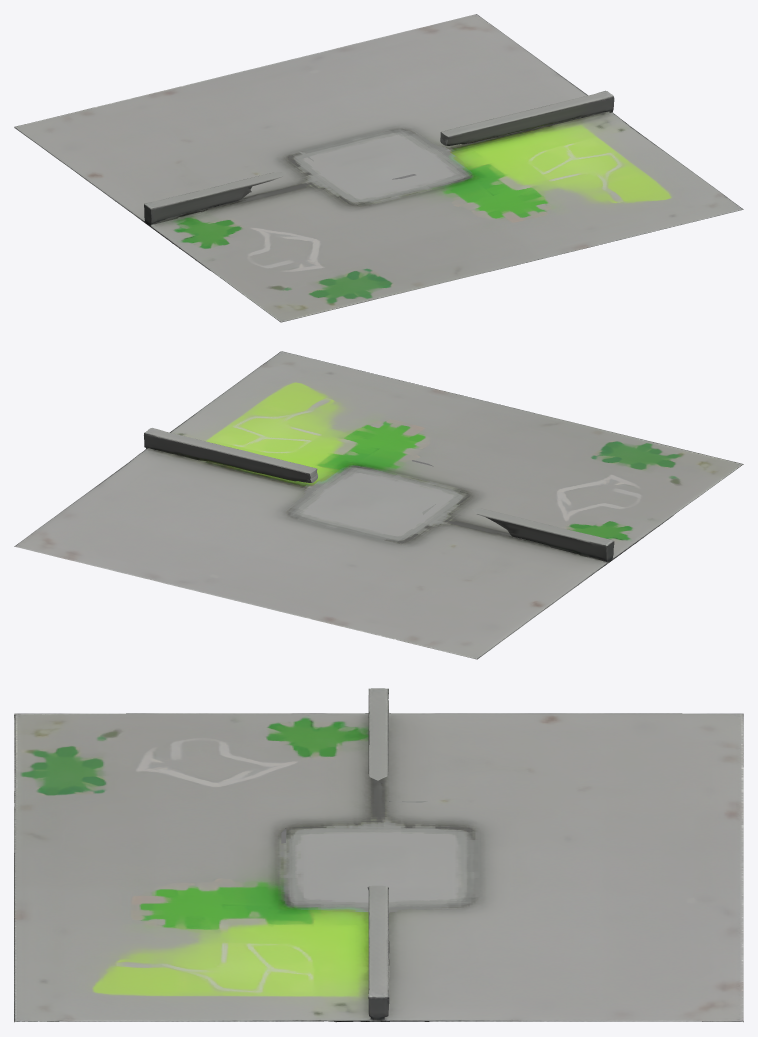
The model's file is sniper.glb.
The picture shows the model from 3 angles, top to bottom: view 1: azimuth 30°, elevation 25°; view 2: azimuth 150°, elevation 25°; view 3: azimuth 270°, elevation 25°; orthographic projection. The views are drawn at different scales.
Parts seen in each view (by area): view 1: geometry_0; view 2: geometry_0; view 3: geometry_0.
Part boxes in pixels (bbox=[...]): geometry_0: bbox=[14, 14, 743, 322]; geometry_0: bbox=[14, 351, 743, 659]; geometry_0: bbox=[14, 688, 743, 1022].
Bounding box in the file's own units: 1 × 0.0422 × 1.
Materials: 1 (1 with a texture image).
